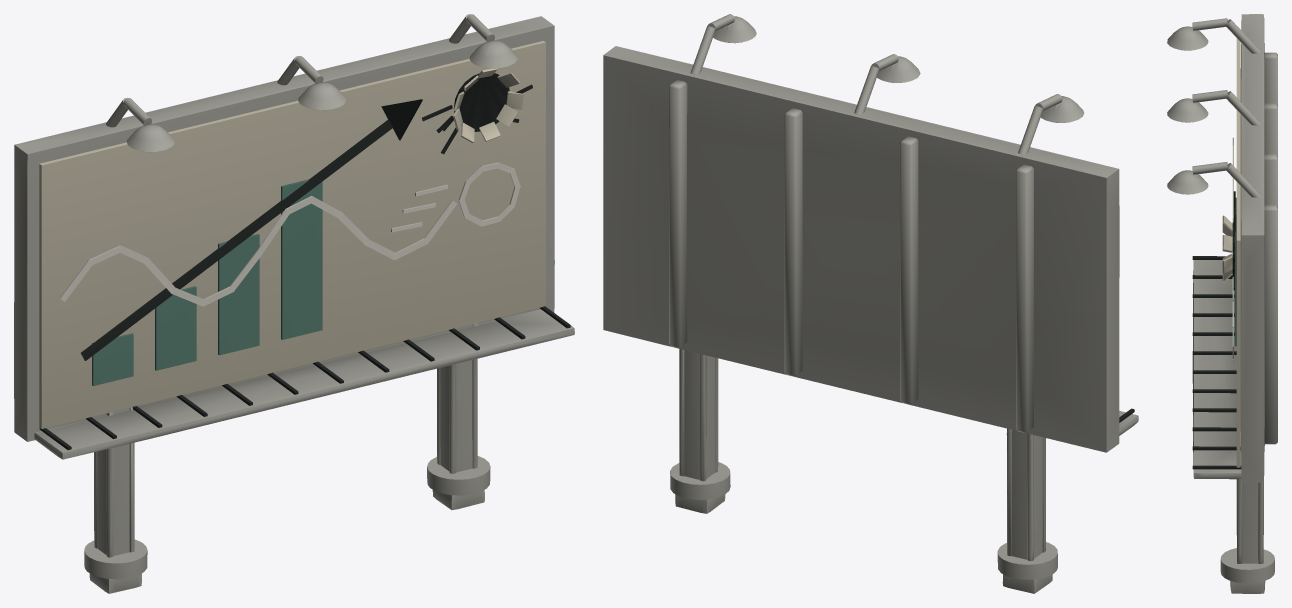
Rendered from foreman_billboard_b_lod1.glb.
The picture shows the model from 3 angles, left to right: view 1: azimuth 30°, elevation 25°; view 2: azimuth 150°, elevation 25°; view 3: azimuth 270°, elevation 25°; orthographic projection. The views are drawn at different scales.
Parts seen in each view (by area): view 1: Surface.001; view 2: Surface.001; view 3: Surface.001.
Boxes of the visible parts, left/top/right/bottom form: Surface.001: left=14, top=14, right=574, bottom=593; Surface.001: left=603, top=14, right=1138, bottom=593; Surface.001: left=1167, top=14, right=1277, bottom=593.
Size of the model in its own units: 10.5 by 9.38 by 2.21.
